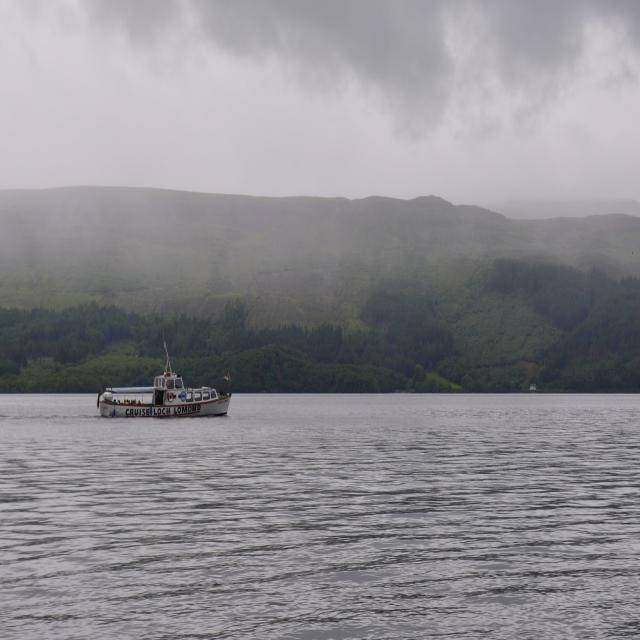fishing boat: (95, 344, 232, 421)
